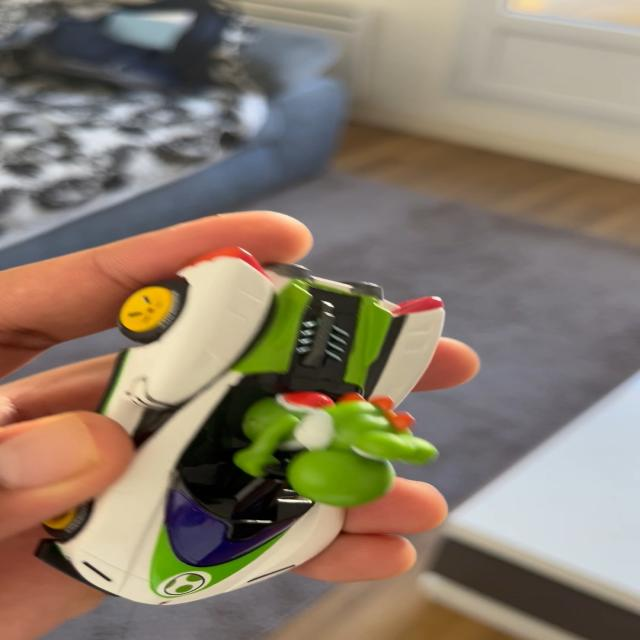yoshi: (64, 233, 472, 618)
